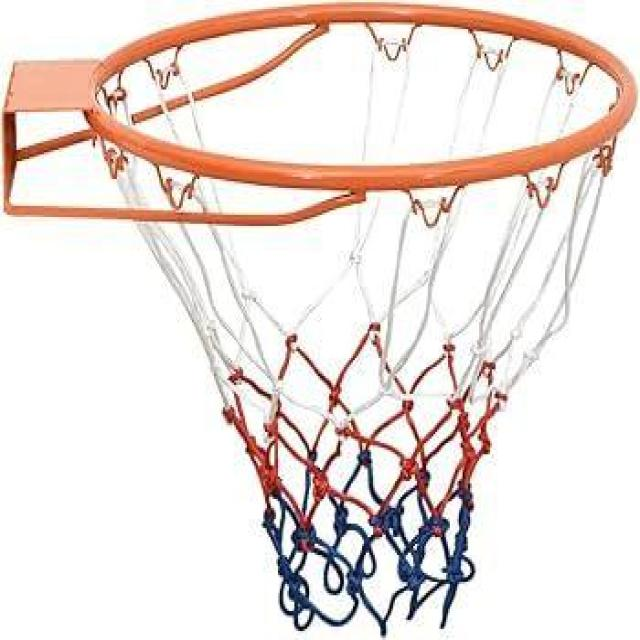hoop: (62, 24, 640, 608)
